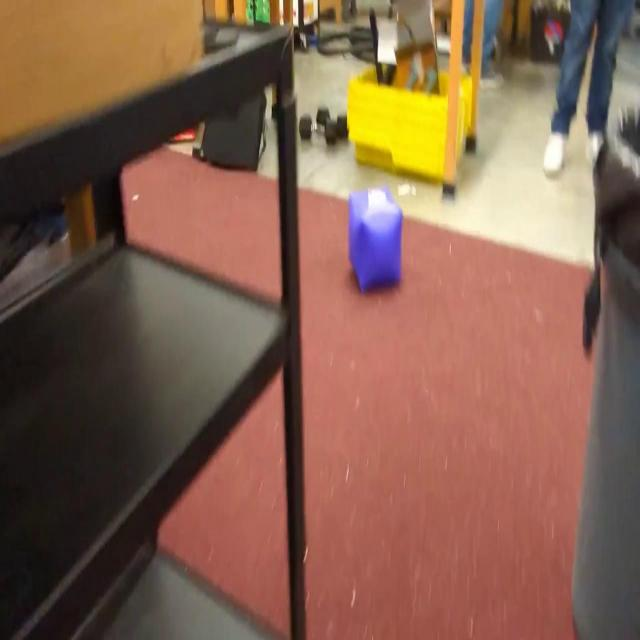frc_cube: (346, 184, 404, 294)
